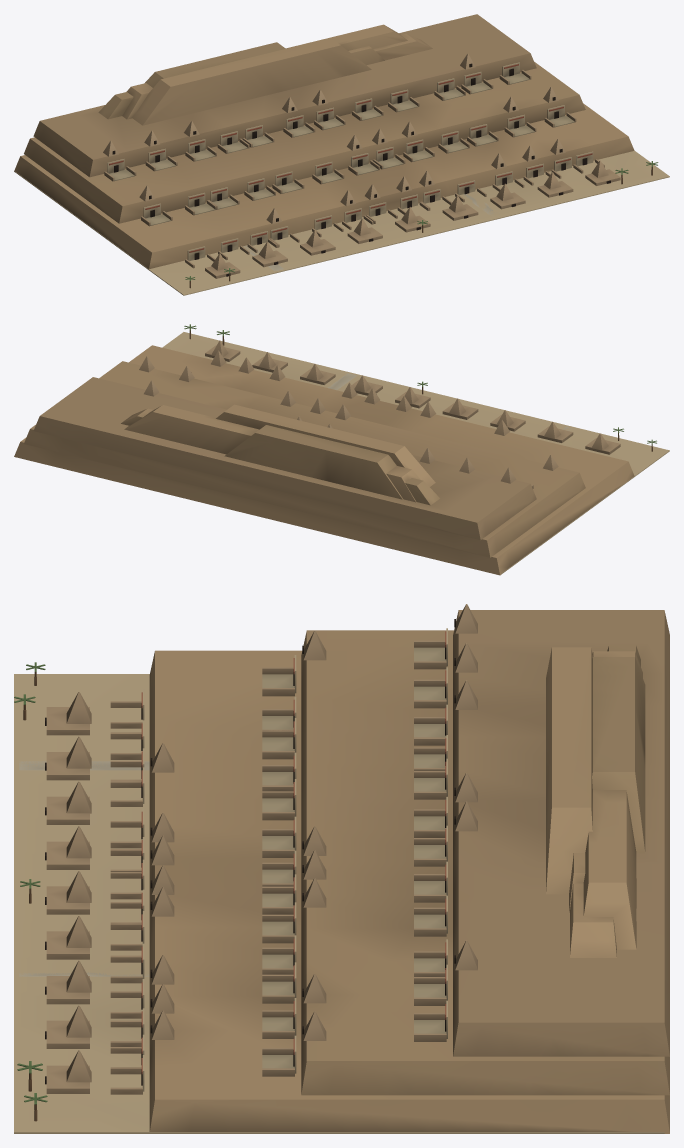
The model's file is nobles-tombs.glb.
3 views of the same model, one above another, from view 1: azimuth 30°, elevation 25°; view 2: azimuth 150°, elevation 25°; view 3: azimuth 270°, elevation 25° (orthographic). The views are drawn at different scales.
Parts seen in each view (by area): view 1: p0_hill, p1_tombs, p2_pyramids; view 2: p0_hill, p2_pyramids, p1_tombs; view 3: p0_hill, p1_tombs, p2_pyramids.
Part boxes in pixels (x1=…): p0_hill: x1=14, y1=14, x2=669, y2=295; p1_tombs: x1=104, y1=62, x2=620, y2=278; p2_pyramids: x1=103, y1=53, x2=608, y2=270; p0_hill: x1=14, y1=332, x2=669, y2=575; p2_pyramids: x1=139, y1=340, x2=608, y2=483; p1_tombs: x1=205, y1=345, x2=620, y2=488; p0_hill: x1=14, y1=610, x2=669, y2=1133; p1_tombs: x1=45, y1=628, x2=447, y2=1094; p2_pyramids: x1=66, y1=604, x2=477, y2=1082.
Bounding box in the file's own units: 200 × 29.98 × 121.
